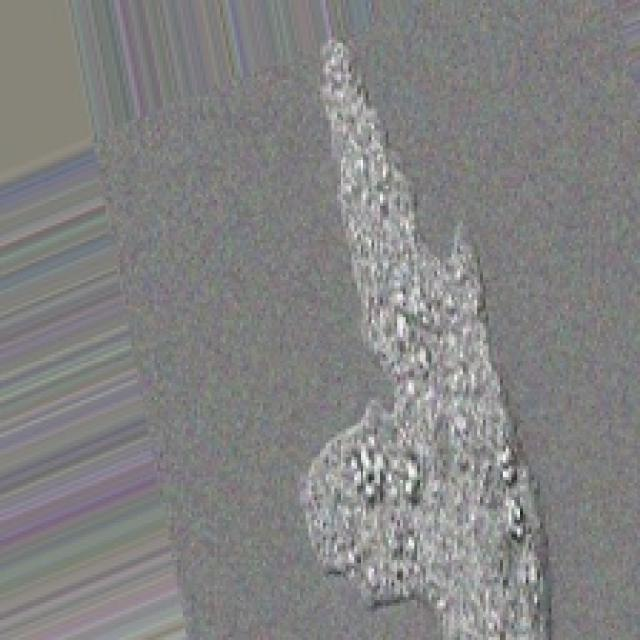Amoeba: (260, 31, 565, 640)
